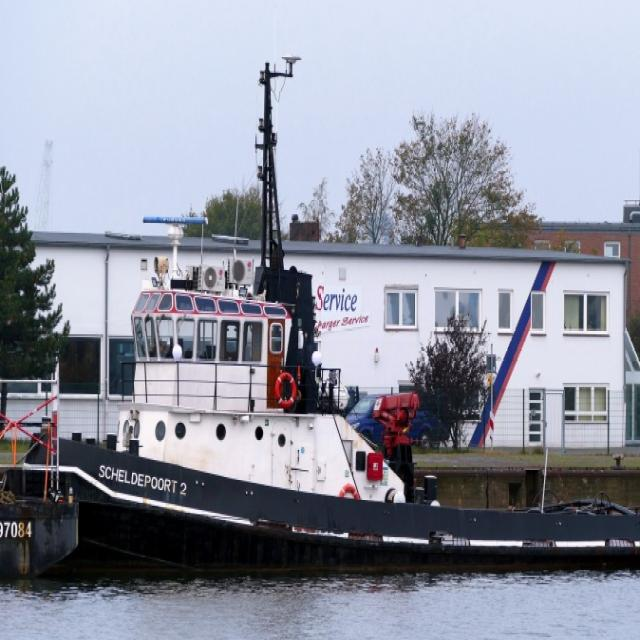tugboat: (23, 281, 640, 594)
